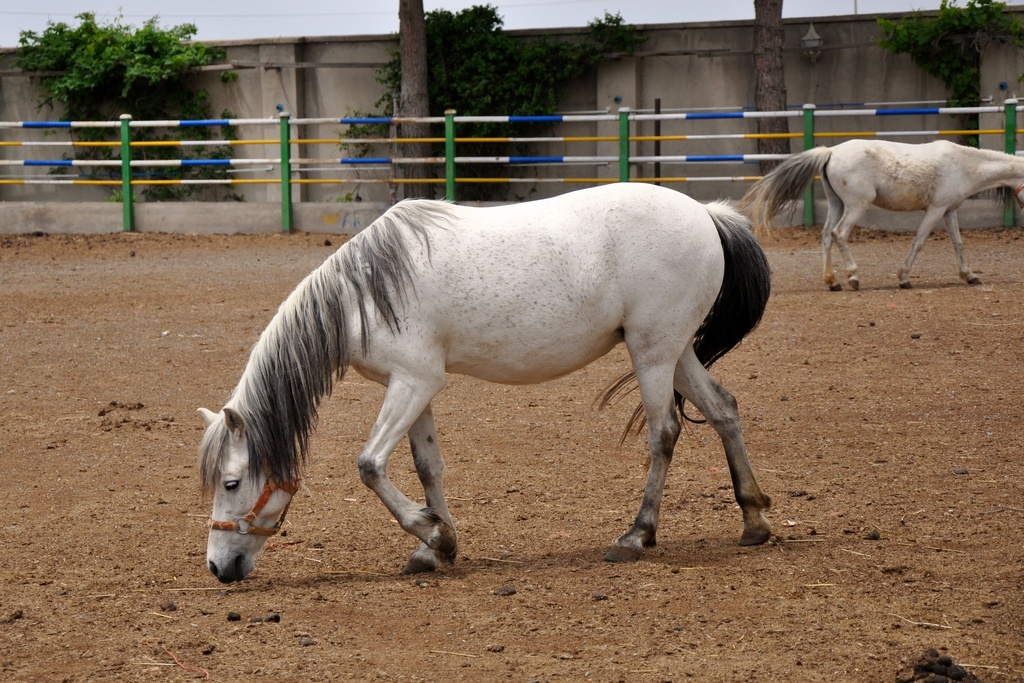horse: (192, 181, 775, 583)
